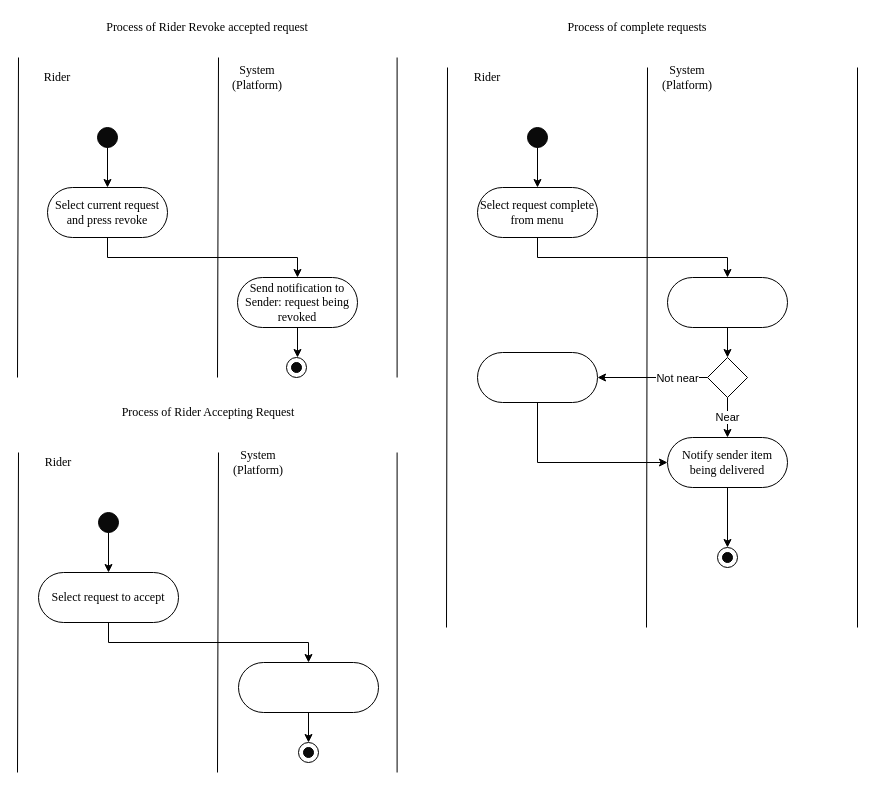
The diagram is 876 pixels wide and 791 high, and some of its shapes have lost their labels. Here are the shapes that lost their labels. From the top down, the centre of each, then its label:
the point at 727,302: Check if near destination
the point at 537,377: Confirm with rider if press by mistake
the point at 308,687: Send notification to sender: Request being accepted
